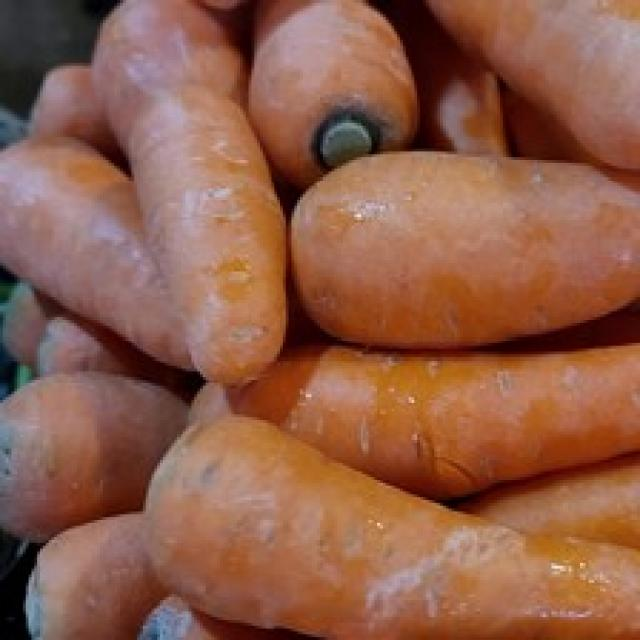carrot: (118, 406, 640, 640), (283, 140, 640, 343), (0, 121, 274, 380), (112, 70, 329, 397), (234, 0, 439, 184)
